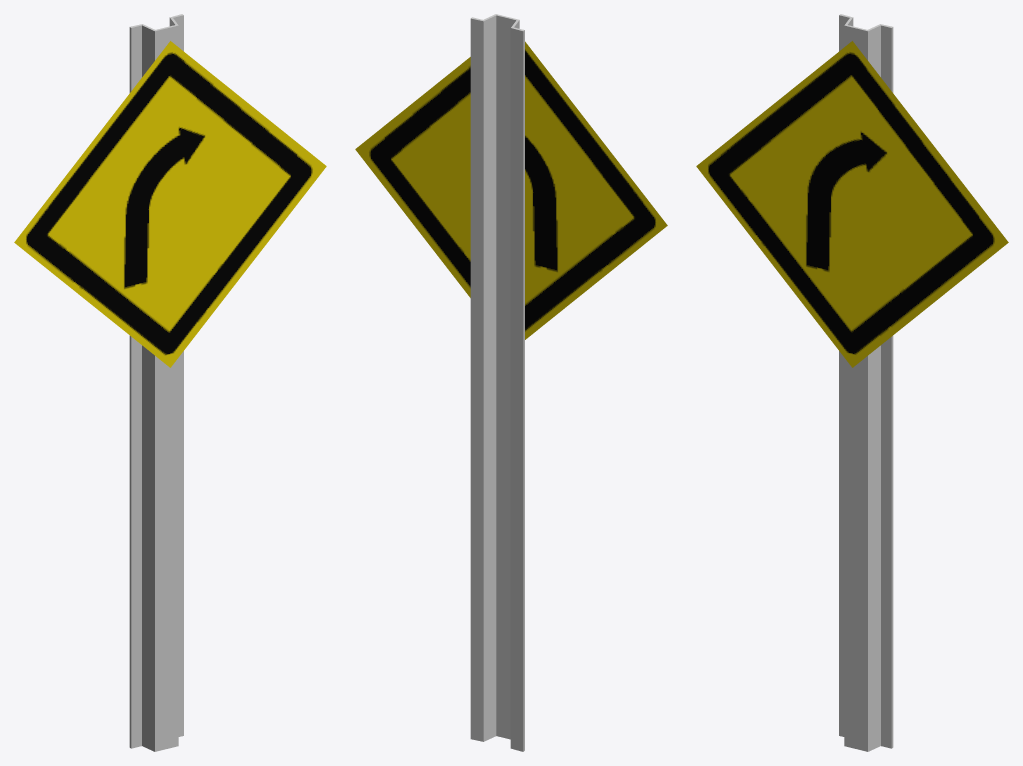
The model's file is RoadSign_01.fbx.
The picture shows the model from 3 angles, left to right: view 1: azimuth 30°, elevation 25°; view 2: azimuth 150°, elevation 25°; view 3: azimuth 330°, elevation 25°; orthographic projection.
Visible parts, largest first — view 1: Plane.015, Plane.014; view 2: Plane.014, Plane.015; view 3: Plane.015, Plane.014.
Part boxes in pixels (bbox=[...]): Plane.015: bbox=[14, 41, 326, 367]; Plane.014: bbox=[129, 14, 183, 751]; Plane.014: bbox=[470, 14, 524, 751]; Plane.015: bbox=[355, 41, 667, 339]; Plane.015: bbox=[696, 41, 1008, 367]; Plane.014: bbox=[839, 14, 893, 751].
Bounding box in the file's own units: 1.06 × 2.33 × 0.0859.
